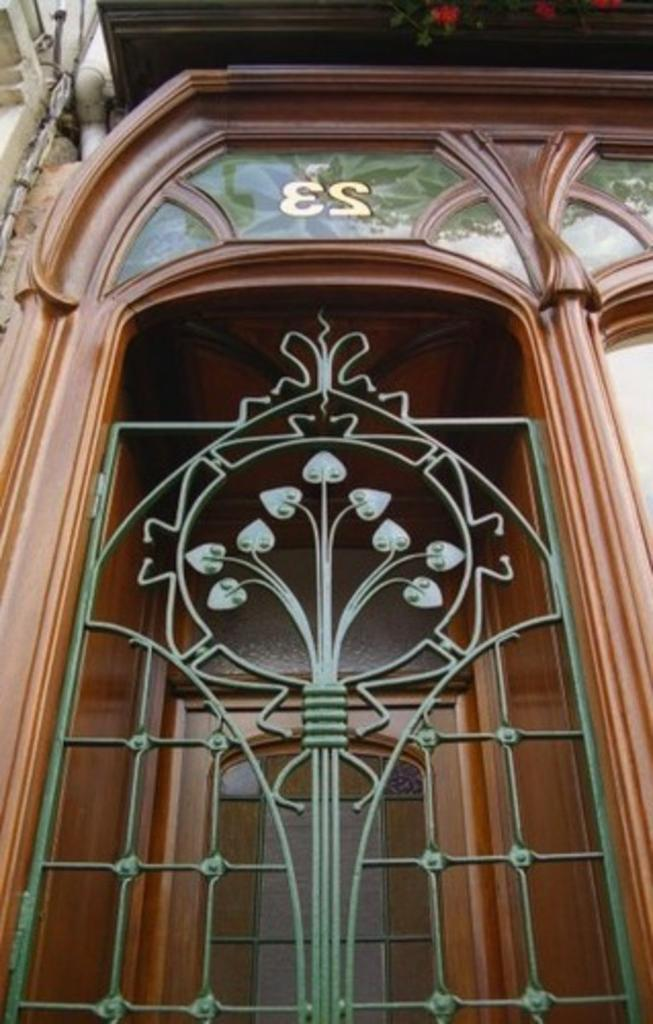door: (98, 337, 540, 1024)
